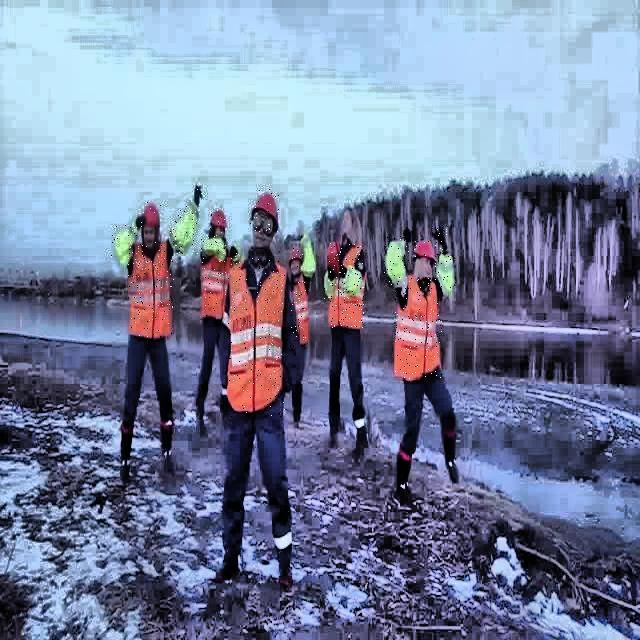safety_helmet: (250, 189, 280, 233), (137, 202, 163, 228), (326, 243, 344, 276), (413, 242, 435, 264), (210, 210, 228, 233), (289, 246, 303, 268)
safety_jacket: (228, 257, 286, 417), (394, 278, 442, 380), (128, 242, 174, 337), (330, 244, 364, 328), (202, 249, 226, 316), (384, 236, 410, 290), (170, 206, 198, 256), (290, 280, 306, 348), (111, 224, 137, 260), (301, 232, 317, 280), (200, 230, 226, 256), (435, 253, 452, 290), (343, 260, 363, 290), (324, 270, 334, 300)
